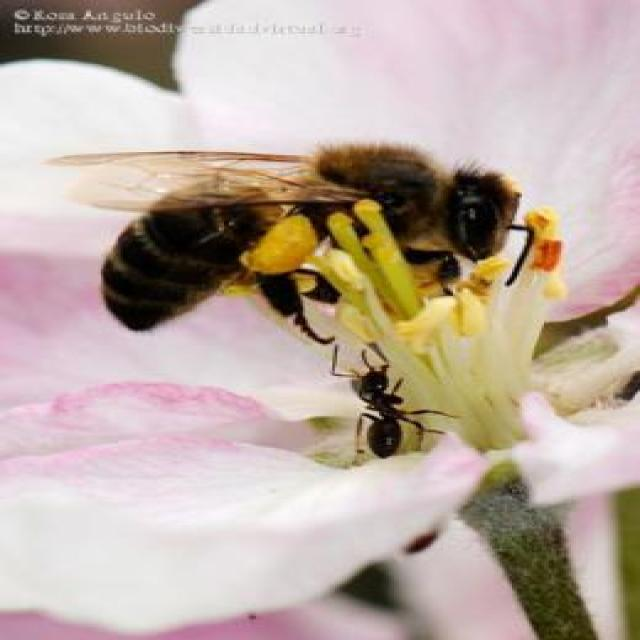antennae: (504, 222, 537, 292)
body: (97, 147, 521, 335)
insect: (41, 146, 542, 340)
legs: (234, 265, 329, 340), (398, 240, 459, 294), (297, 263, 344, 304)
mouthpart: (460, 244, 492, 267)
wings: (65, 156, 377, 214), (45, 150, 329, 171)
